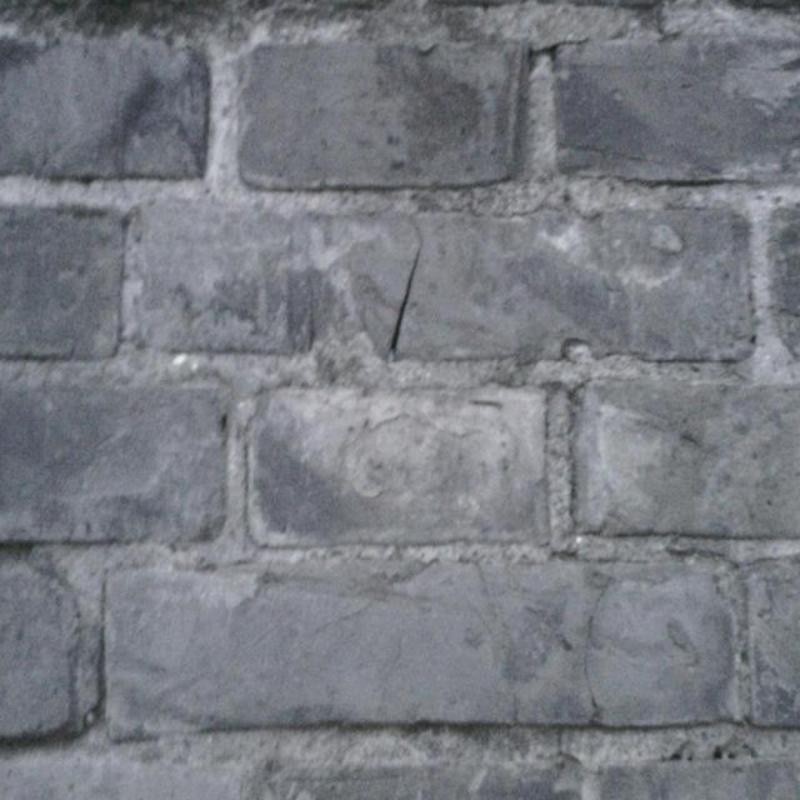crack: (582, 575, 616, 714), (391, 242, 421, 353), (526, 38, 586, 66)
